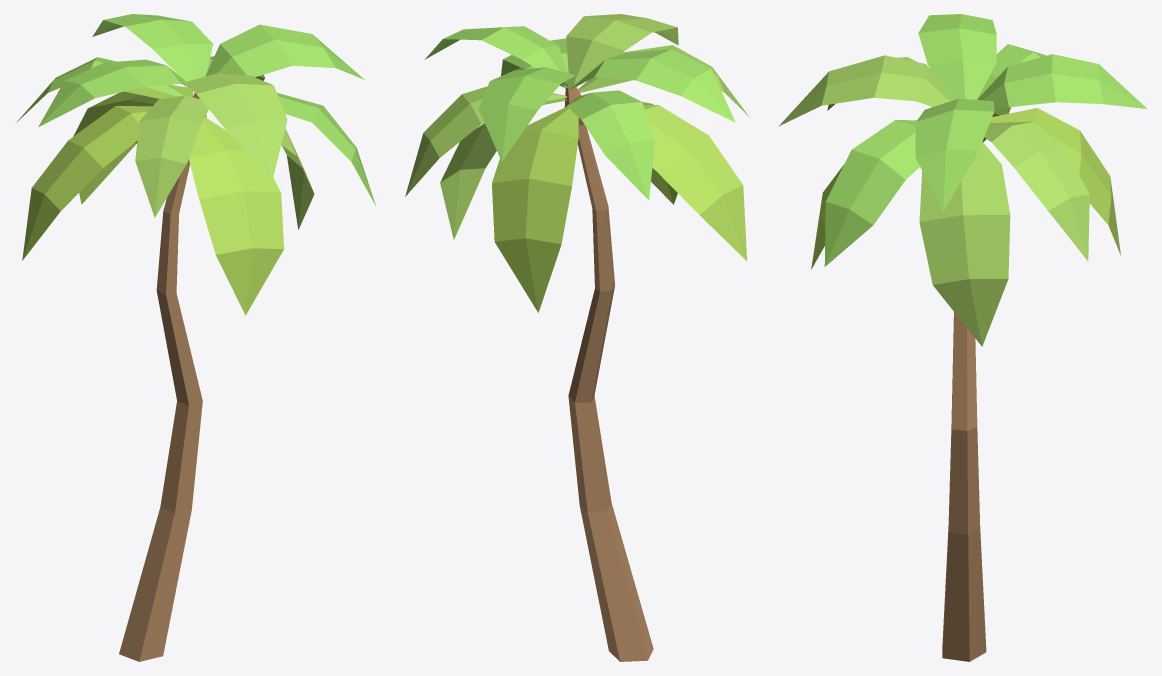
The model's file is Palm_Tree_OneSided_l_04.fbx.
The picture shows the model from 3 angles, left to right: view 1: azimuth 30°, elevation 25°; view 2: azimuth 150°, elevation 25°; view 3: azimuth 270°, elevation 25°; orthographic projection. The views are drawn at different scales.
Parts seen in each view (by area): view 1: Palm_Tree_OneSided_l_04; view 2: Palm_Tree_OneSided_l_04; view 3: Palm_Tree_OneSided_l_04.
Part boxes in pixels (x1=…): Palm_Tree_OneSided_l_04: x1=15, y1=14, x2=375, y2=661; Palm_Tree_OneSided_l_04: x1=405, y1=14, x2=748, y2=661; Palm_Tree_OneSided_l_04: x1=778, y1=14, x2=1146, y2=661.
Bounding box in the file's own units: 475 × 809 × 440.
